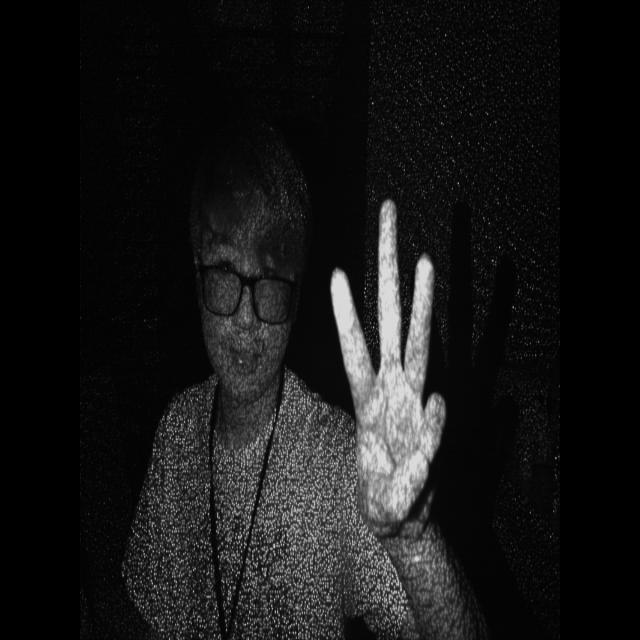W: (323, 192, 455, 567)
